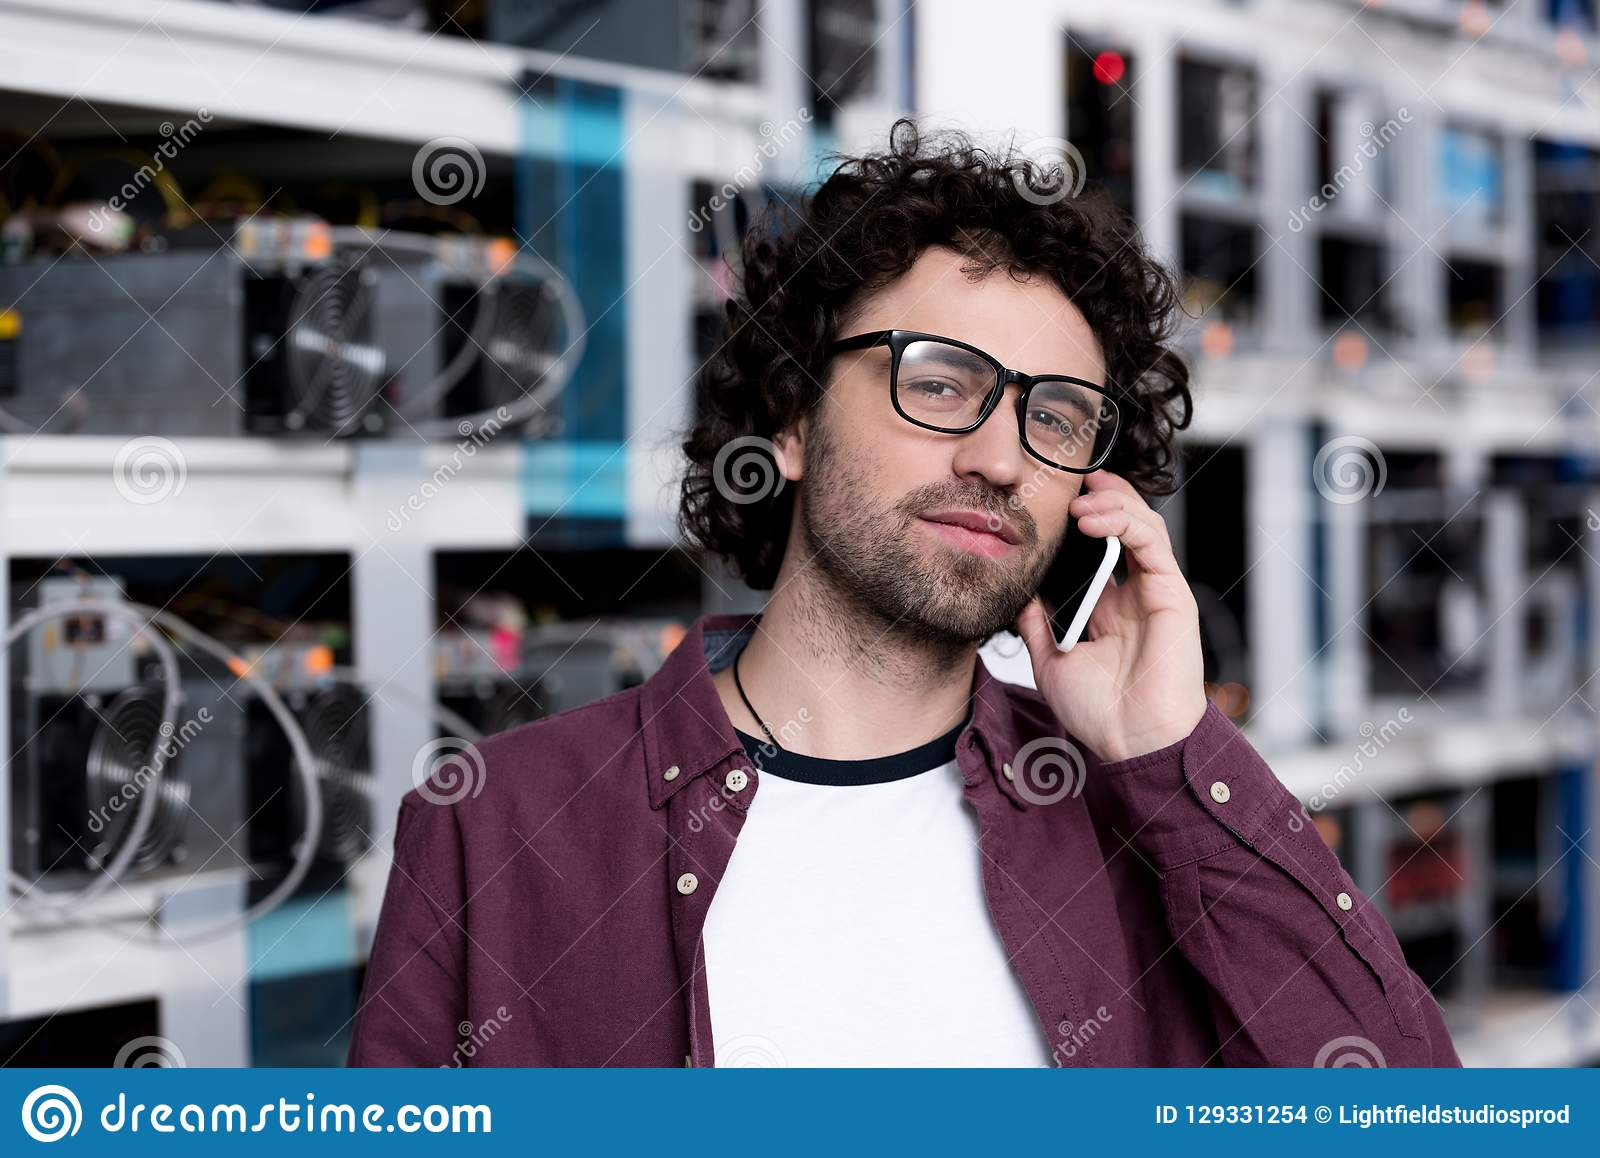phone: (1032, 487, 1124, 649)
talk: (842, 314, 1207, 744)
